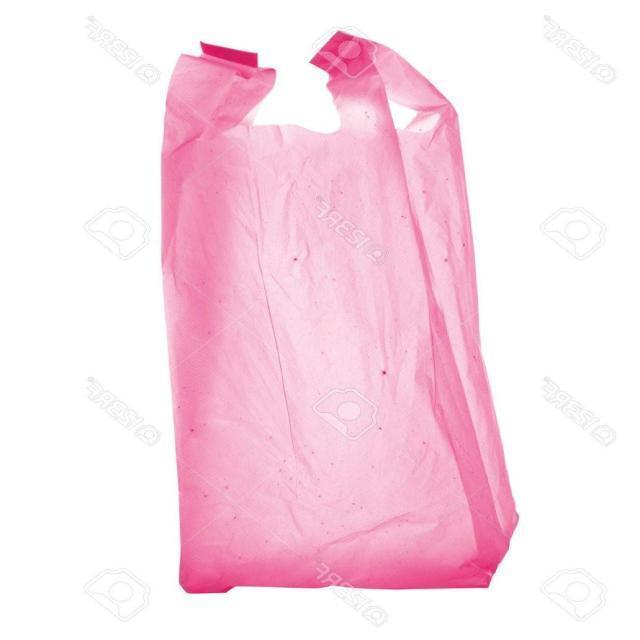Plastic_Bag: (148, 39, 524, 590)
